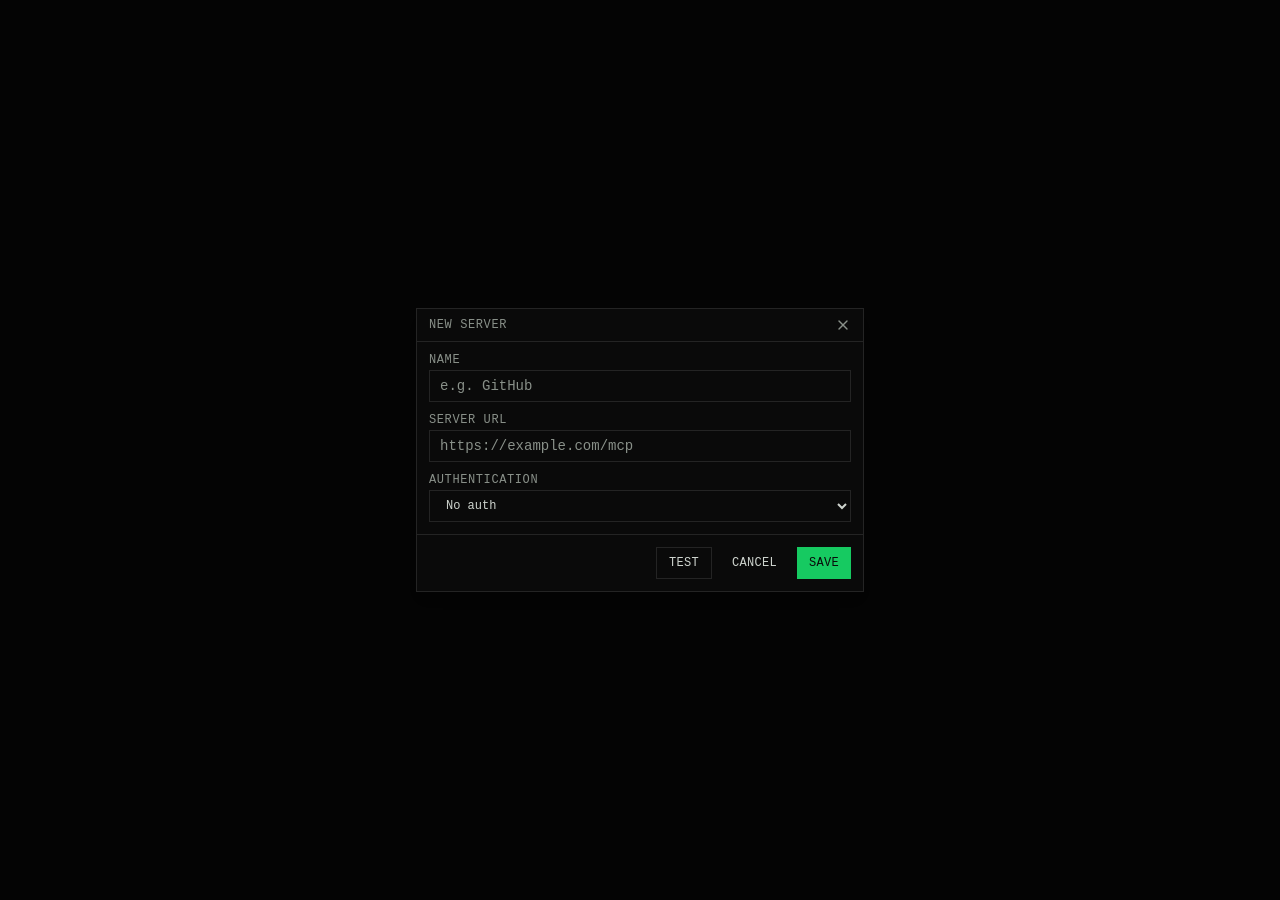
Test case: McpServerDialog › requires a value for API-key auth
Step 1. Type "X" into the field labelled "Name" → (640, 386), box [429,370,851,402]
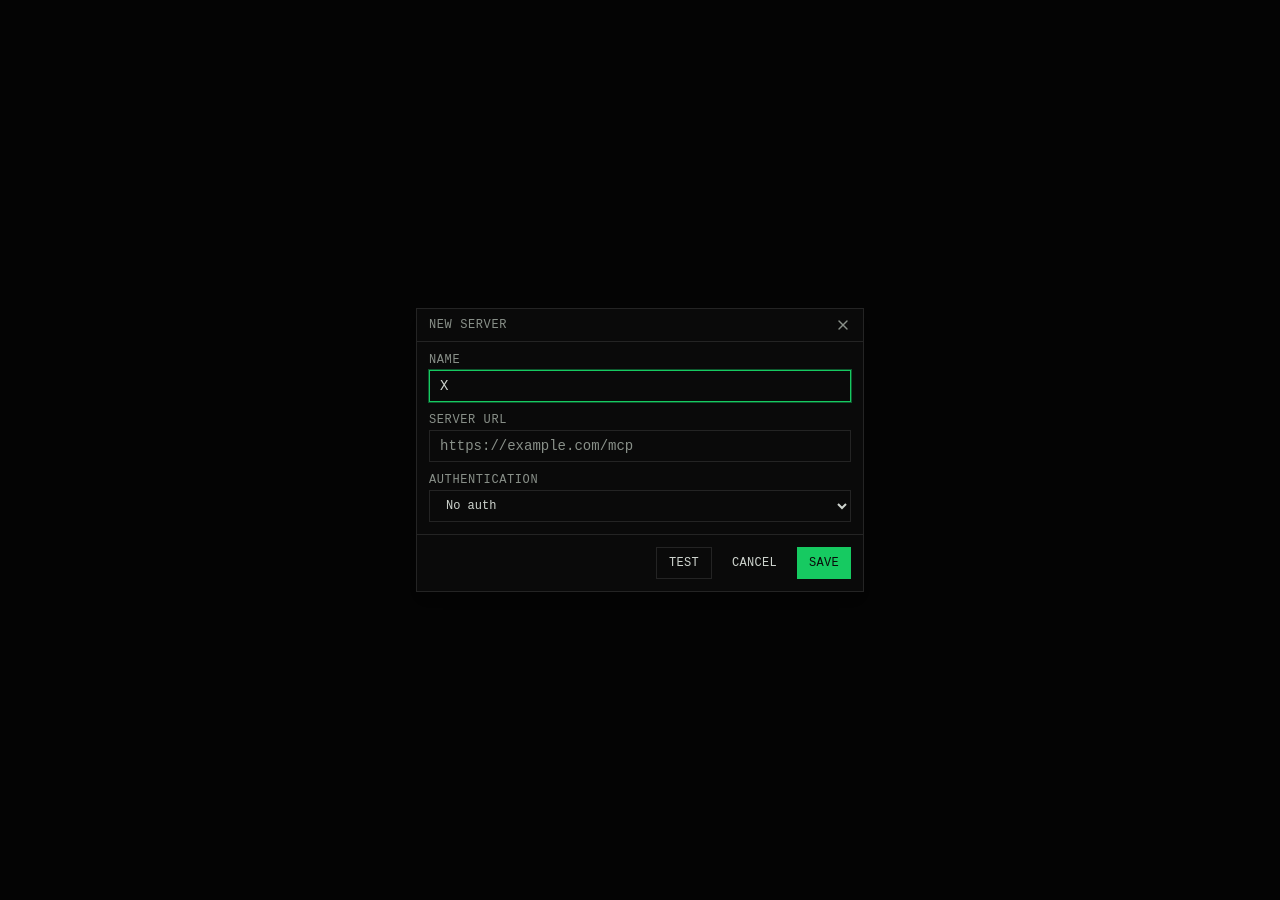
Step 2. Type "https://s.example/mcp" into the field labelled "Server URL" → (640, 446), box [429,430,851,462]
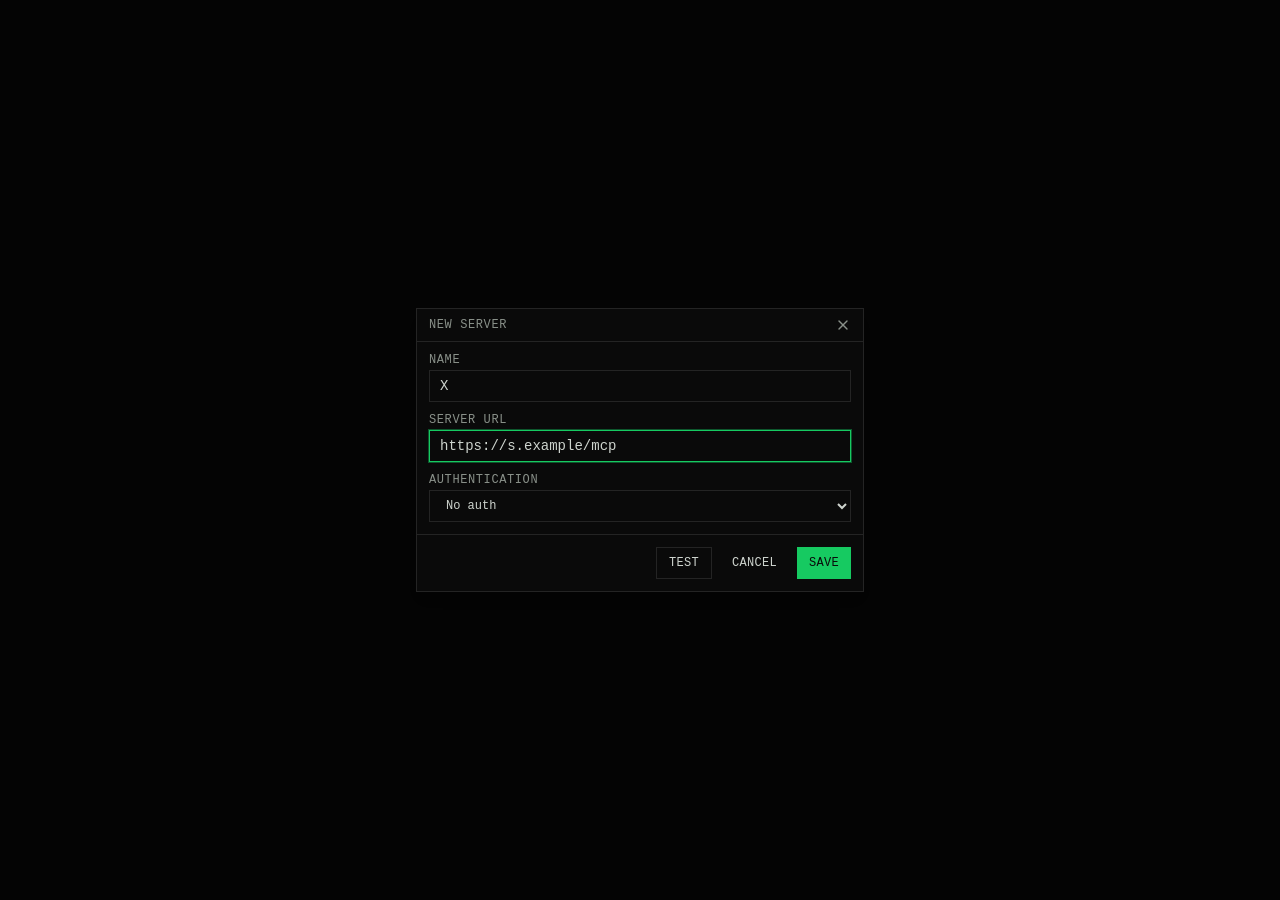
Step 3. Select "API key / bearer" in the dropdown → (640, 506), box [429,490,851,522]
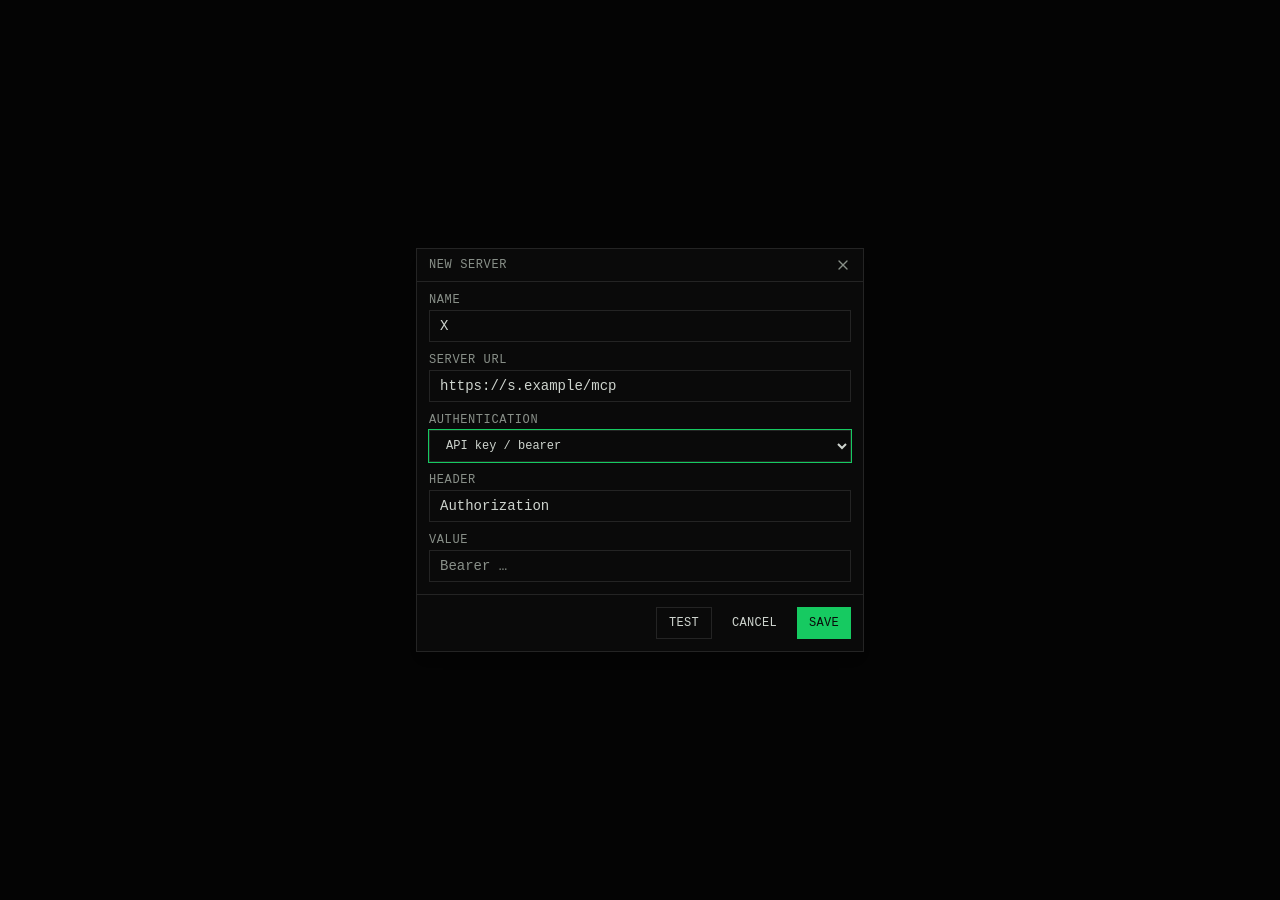
Step 4. Click the button "Save" → click(824, 623), box [797,607,851,639]
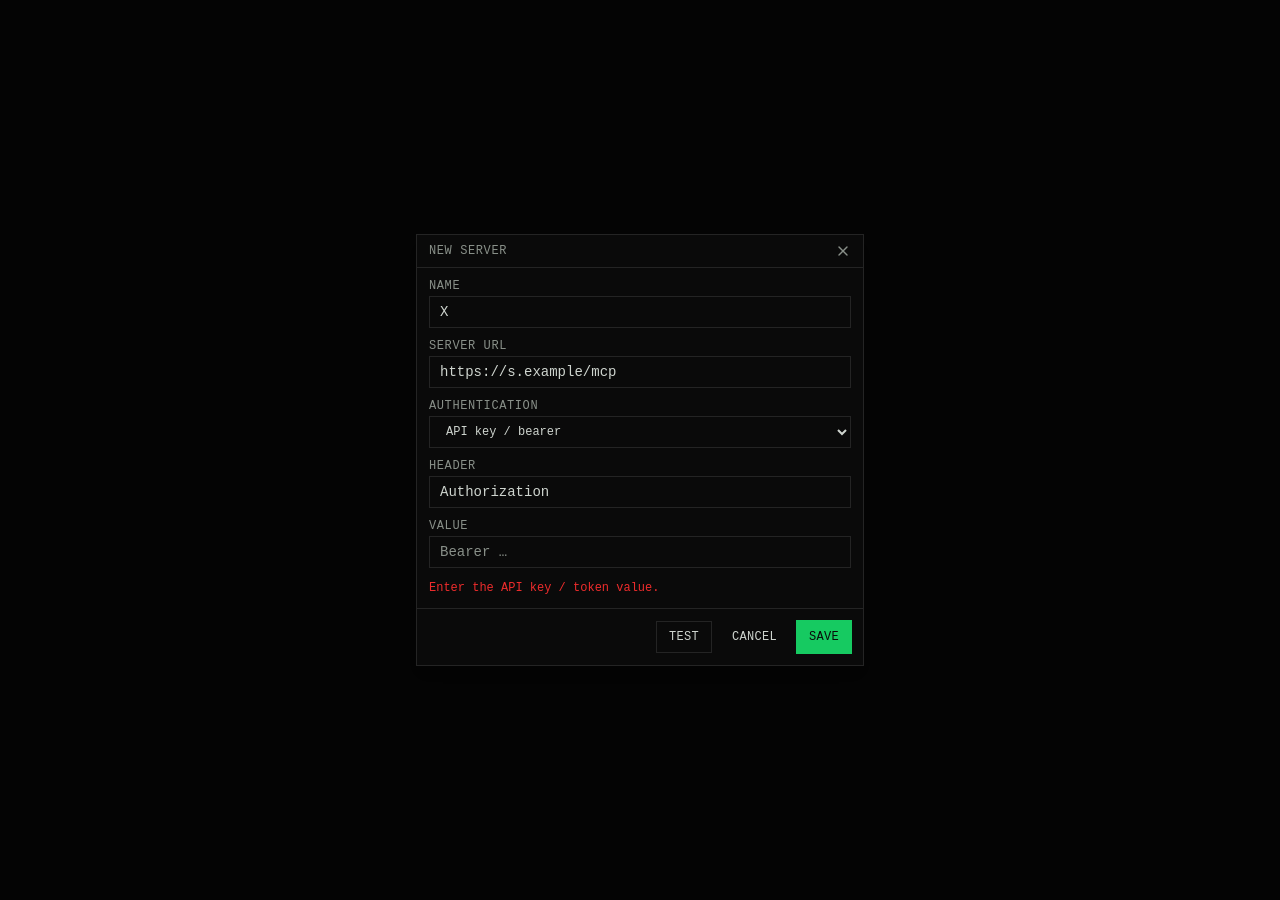
expect the message shows "API key": met, box [429,581,659,595]
